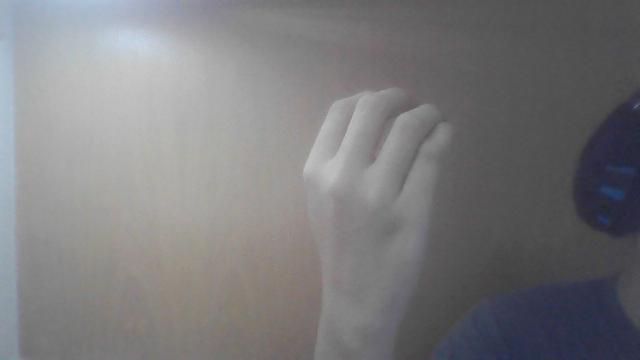backword: (300, 85, 454, 358)
